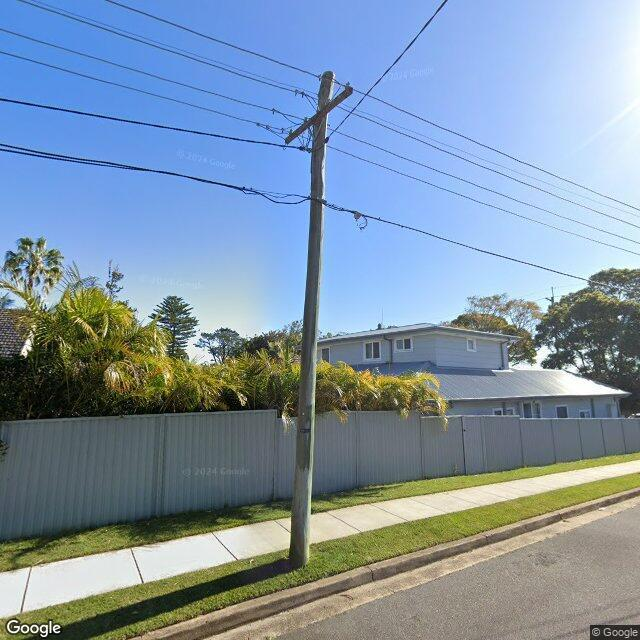crossarm: (282, 85, 356, 146)
timber-pole: (287, 71, 337, 571)
